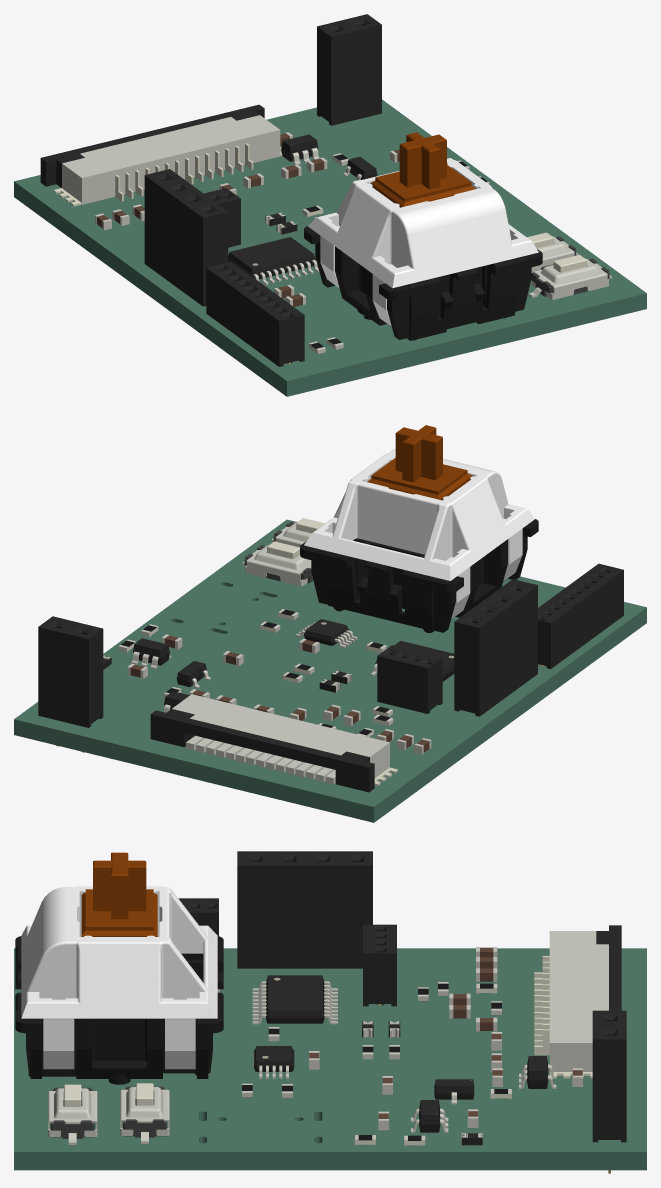
File: TapperDev.glb
3 renders of one model, top to bottom at view 1: azimuth 30°, elevation 25°; view 2: azimuth 150°, elevation 25°; view 3: azimuth 270°, elevation 25°, orthographic. The views are drawn at different scales.
Visible parts, largest first — view 1: =>[0:1:1:17], SW1, J3, J4, J2, J7, U1, SW3, SW2, J6, U2, Q1; view 2: =>[0:1:1:17], SW1, J3, J4, J2, J7, J6, SW2, U4, U3, SW3, U1 (+1 smaller); view 3: =>[0:1:1:17], SW1, J4, J3, J2, U1, J6, SW3, SW2, U4, U3, U2 (+2 smaller).
Part boxes in pixels (box(x1,y1,x2,y2)): =>[0:1:1:17]: box(14, 99, 646, 396); SW1: box(304, 132, 542, 340); J3: box(40, 104, 282, 206); J4: box(144, 169, 228, 306); J2: box(317, 14, 381, 125); J7: box(206, 261, 304, 366); U1: box(228, 237, 319, 284); SW3: box(528, 255, 611, 299); SW2: box(527, 232, 578, 272); J6: box(204, 188, 240, 247); U2: box(281, 134, 319, 164); Q1: box(343, 156, 377, 181); =>[0:1:1:17]: box(14, 519, 646, 822); SW1: box(300, 425, 538, 632); J3: box(150, 694, 397, 792); J4: box(454, 579, 537, 716); J2: box(38, 616, 103, 752); J7: box(538, 563, 623, 668); J6: box(377, 645, 442, 713); SW2: box(242, 541, 313, 586); U4: box(295, 619, 357, 648); U3: box(131, 638, 171, 669); SW3: box(271, 518, 324, 547); U1: box(371, 641, 454, 681); =>[0:1:1:17]: box(14, 948, 646, 1170); SW1: box(15, 852, 223, 1084); J4: box(237, 851, 372, 968); J3: box(534, 925, 621, 1078); J2: box(592, 1010, 626, 1173); U1: box(252, 975, 337, 1024); J6: box(363, 924, 396, 1006); SW3: box(48, 1084, 97, 1144); SW2: box(120, 1083, 169, 1143); U4: box(254, 1046, 294, 1078); U3: box(411, 1100, 448, 1132); U2: box(519, 1056, 556, 1088).
Size of the model in its own units: 0.0361 by 0.0186 by 0.0474.
